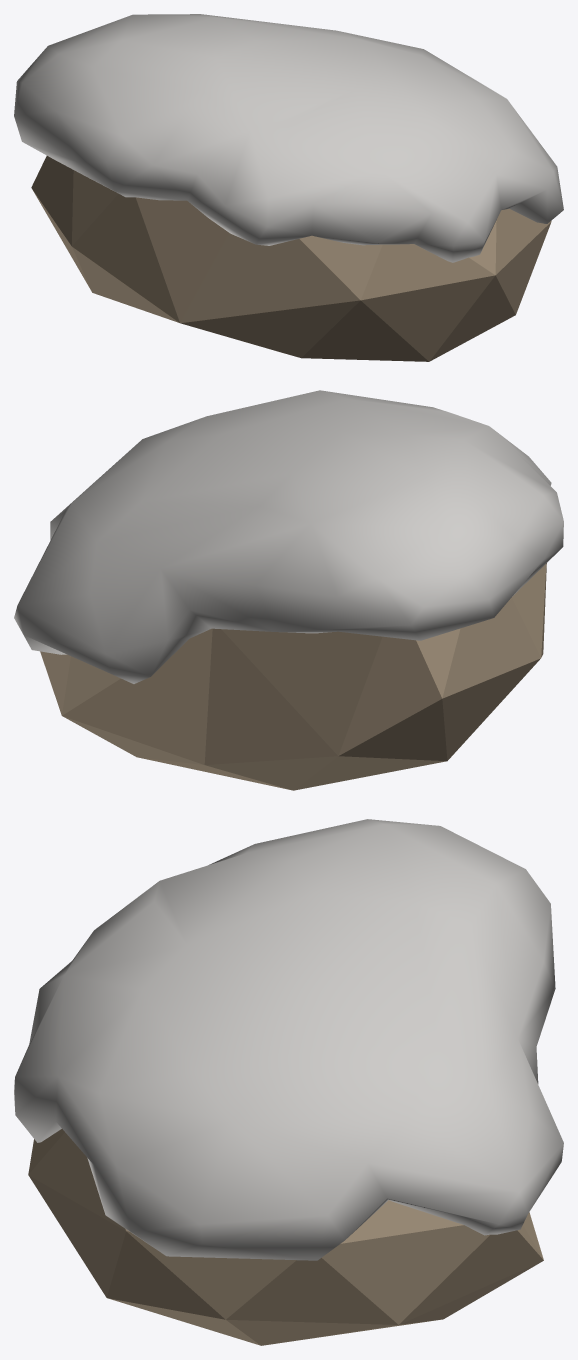
Rendered from Rock_w_Snow_004.fbx.
3 renders of one model, top to bottom at view 1: azimuth 30°, elevation 25°; view 2: azimuth 150°, elevation 25°; view 3: azimuth 270°, elevation 25°, orthographic. The views are drawn at different scales.
Visible parts, largest first — view 1: Rock_w_Snow.004; view 2: Rock_w_Snow.004; view 3: Rock_w_Snow.004.
Boxes of the visible parts, x1,y1,x2,y2 form: Rock_w_Snow.004: [14, 14, 563, 361]; Rock_w_Snow.004: [14, 390, 563, 790]; Rock_w_Snow.004: [14, 819, 563, 1345].
Bounding box in the file's own units: 268 × 179 × 237.
